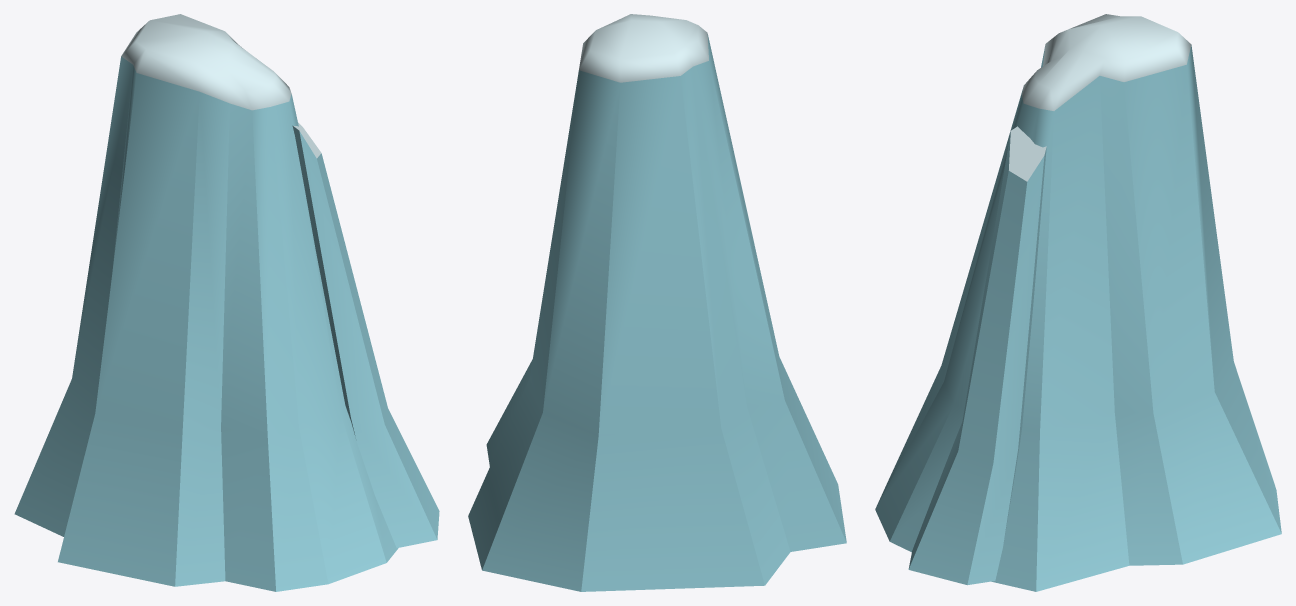
Rendered from mdl_iceCliff02.fbx.
The picture shows the model from 3 angles, left to right: view 1: azimuth 30°, elevation 25°; view 2: azimuth 150°, elevation 25°; view 3: azimuth 270°, elevation 25°; orthographic projection. The views are drawn at different scales.
Visible parts, largest first — view 1: mdl_iceCliff07; view 2: mdl_iceCliff07; view 3: mdl_iceCliff07.
Part boxes in pixels (x1,y1,x2,y2): mdl_iceCliff07: (14, 14, 439, 591); mdl_iceCliff07: (468, 14, 846, 591); mdl_iceCliff07: (875, 14, 1281, 591).
Size of the model in its own units: 265 by 341 by 267.
Materials: 1 (1 with a texture image).
